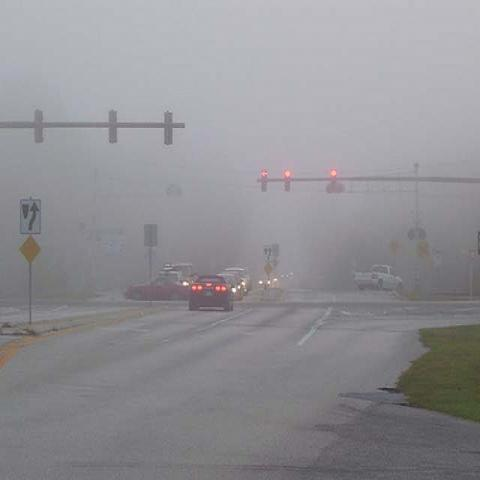car: (189, 274, 236, 313), (123, 274, 190, 300), (355, 264, 403, 290), (157, 263, 193, 285), (219, 273, 242, 301), (224, 271, 250, 295), (224, 269, 252, 285), (256, 273, 271, 287), (157, 270, 179, 275)
